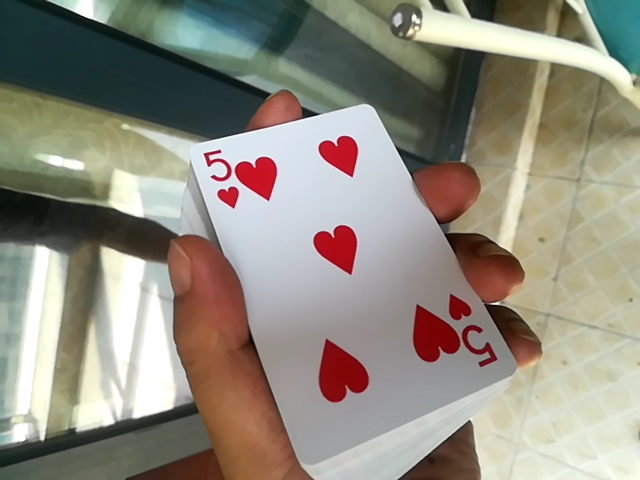hx 5: (154, 94, 494, 455)
